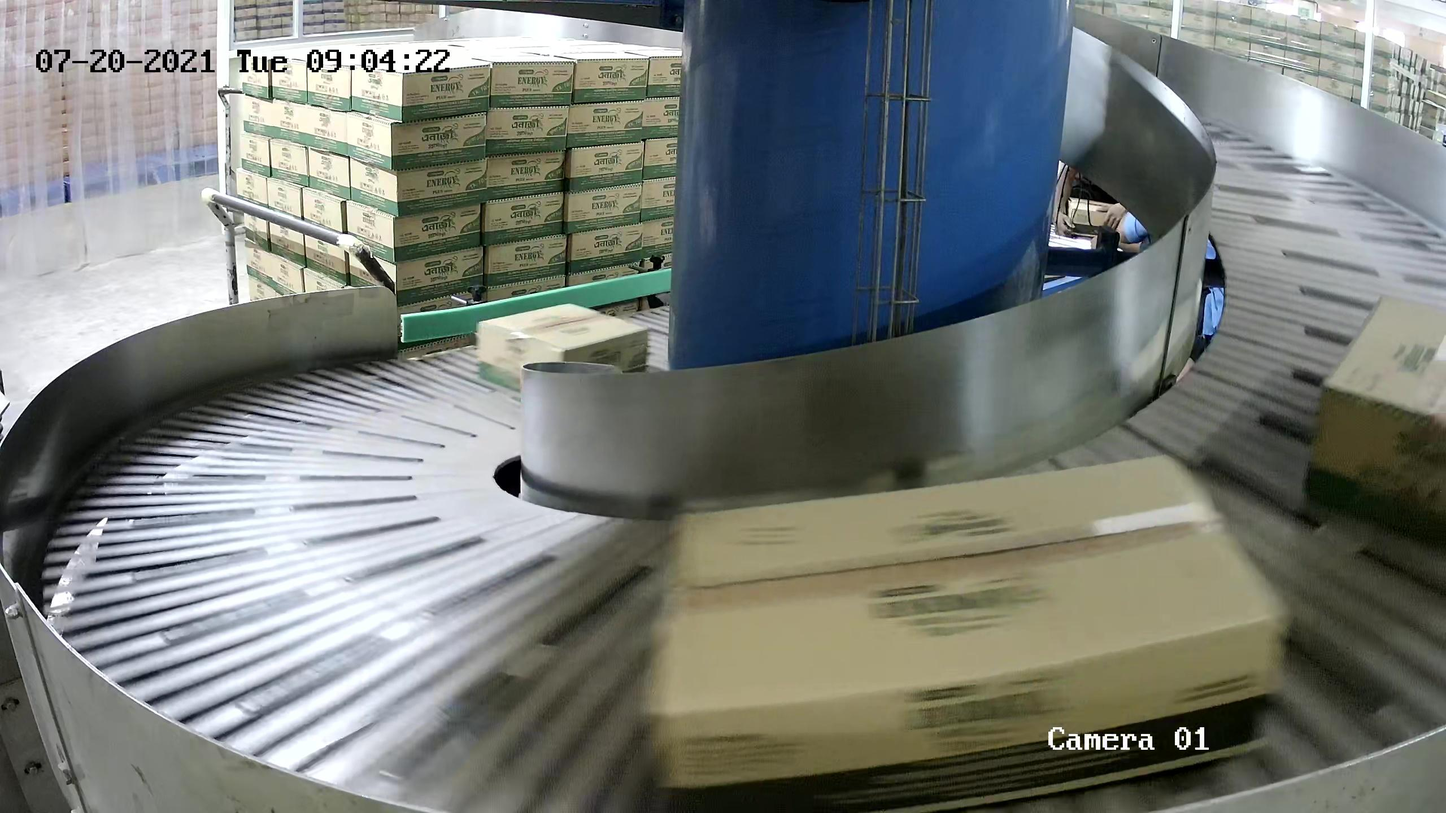Box: (643, 443, 1286, 812), (1300, 290, 1446, 552), (475, 302, 650, 393)
